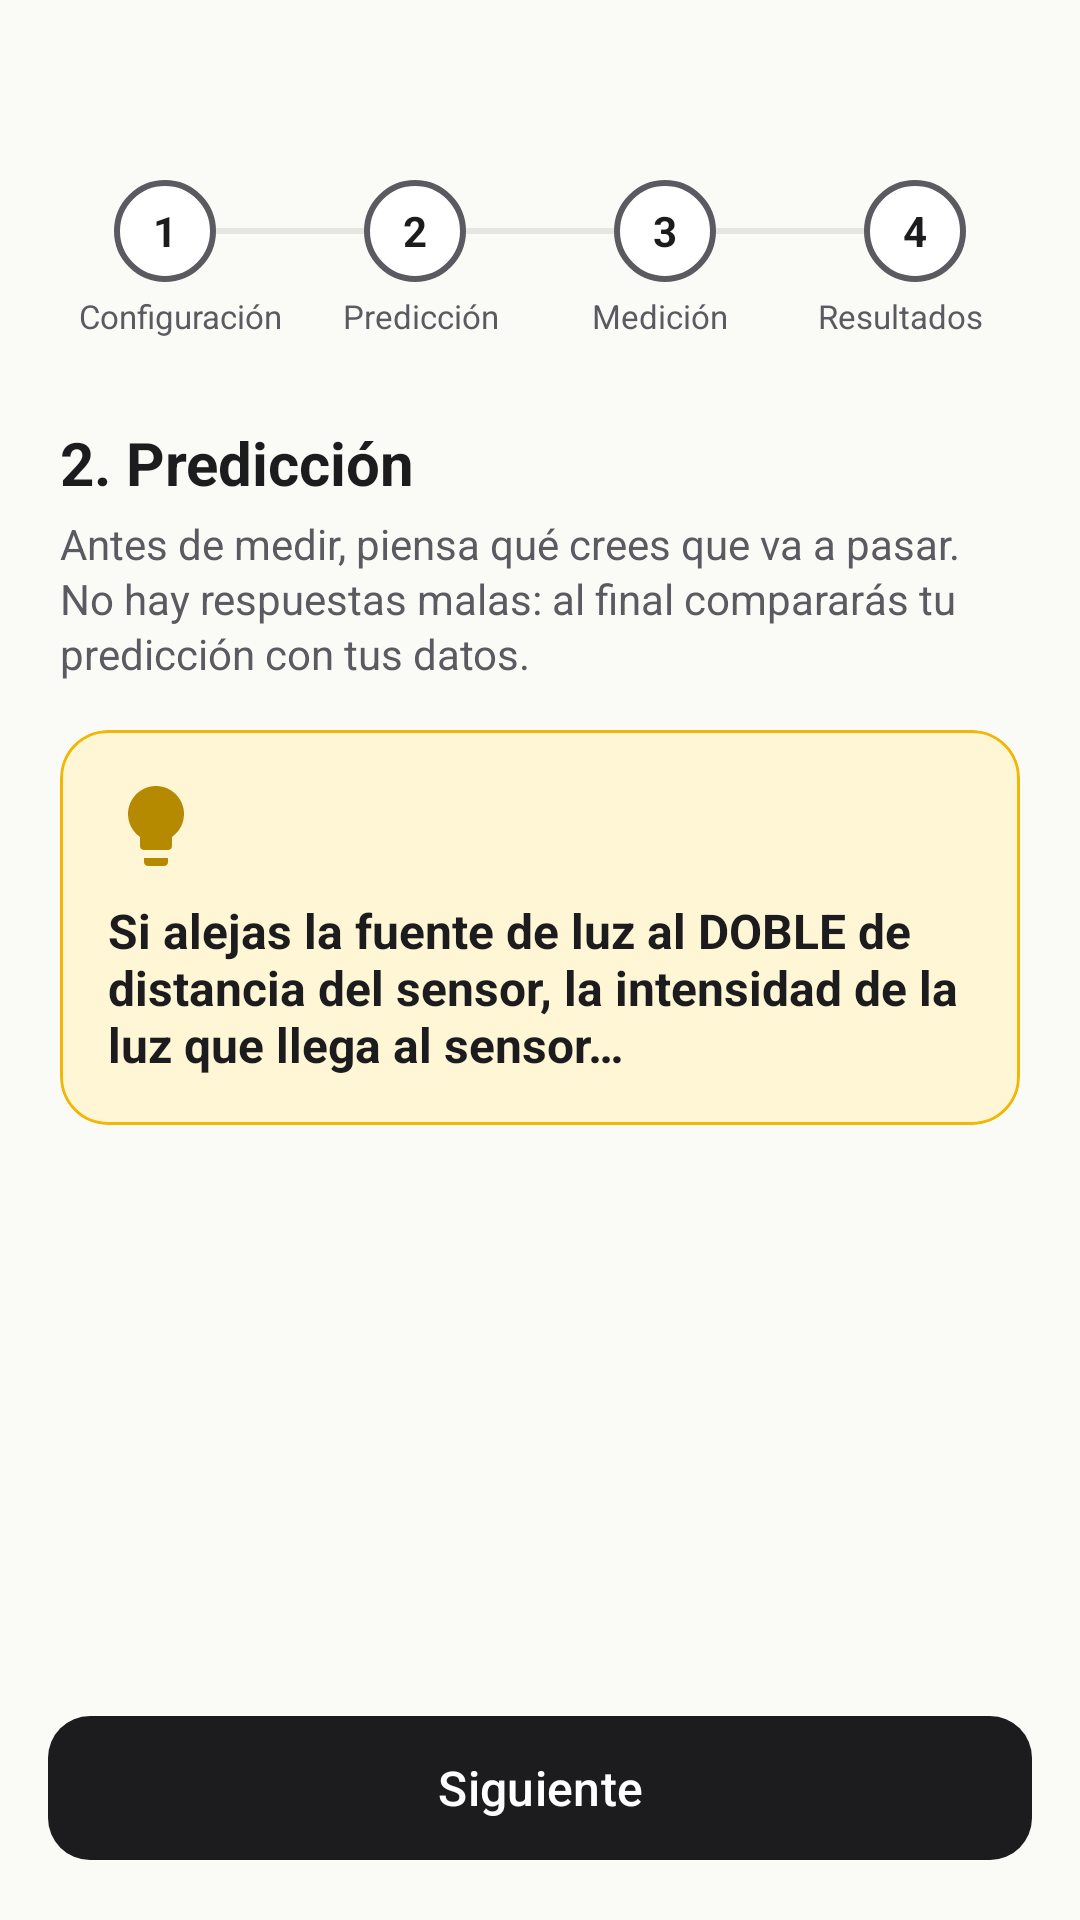

Icon click points for this 1080w x 1920h phone screenshot, format (x,y):
bulb: (156,826)
